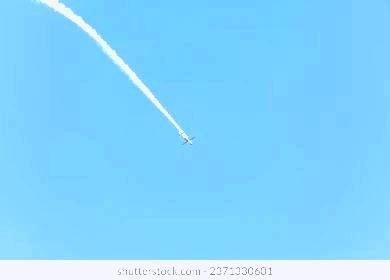Plane: (101, 38, 205, 149)
